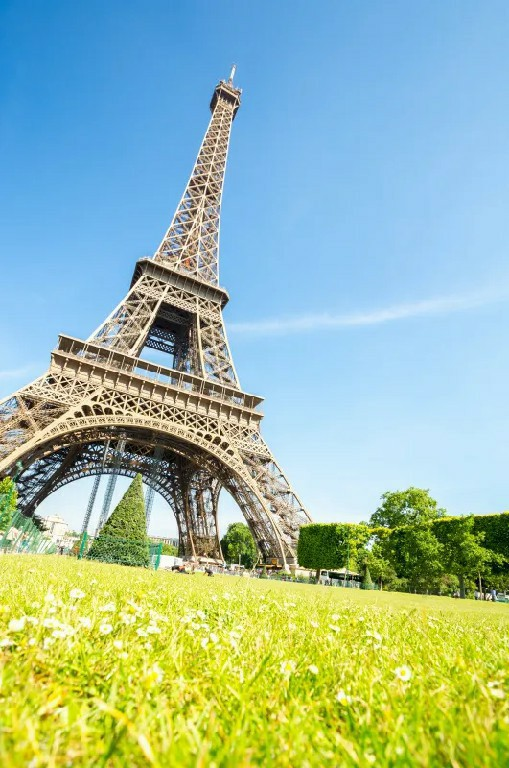Eiffel: (1, 63, 315, 581)
